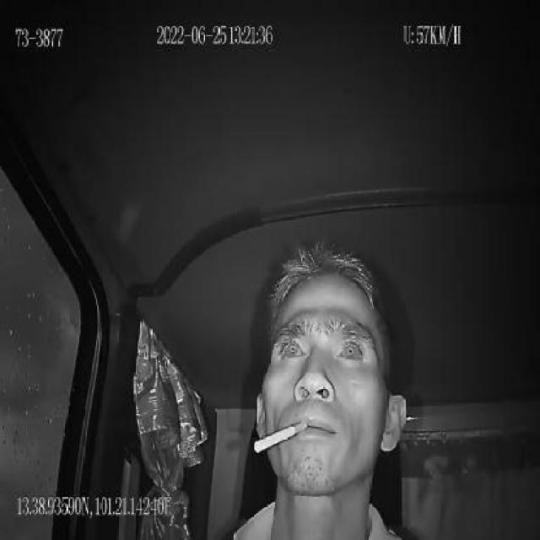smoking: (253, 422, 308, 454)
